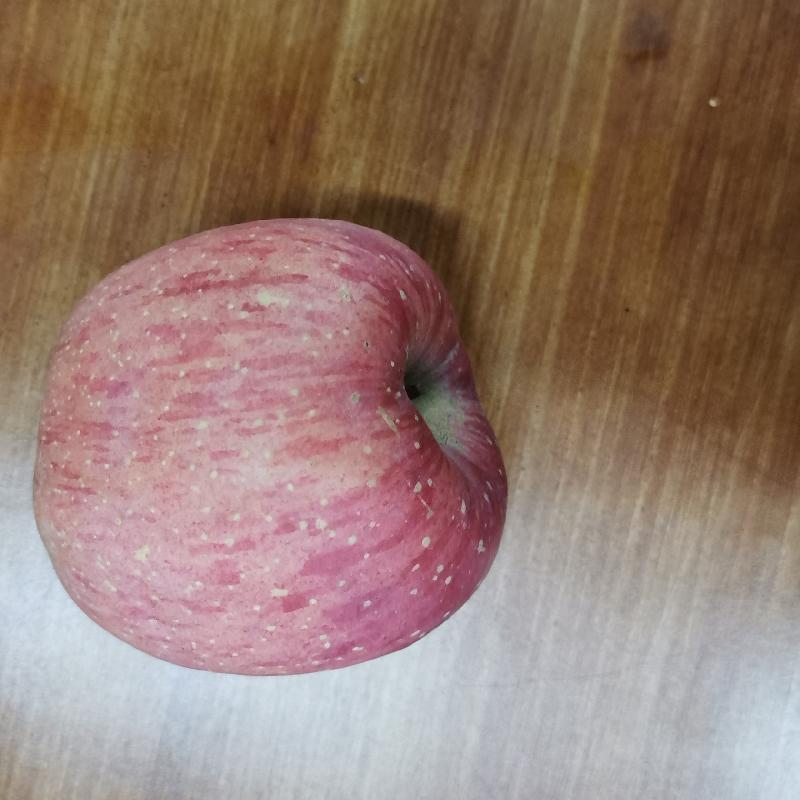apples: (27, 214, 541, 680)
